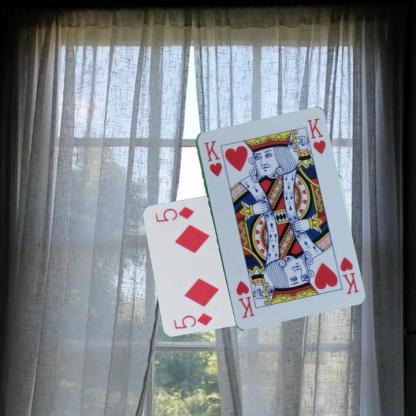5d: (172, 310, 214, 330)
Kh: (337, 254, 360, 295), (201, 138, 223, 178)
